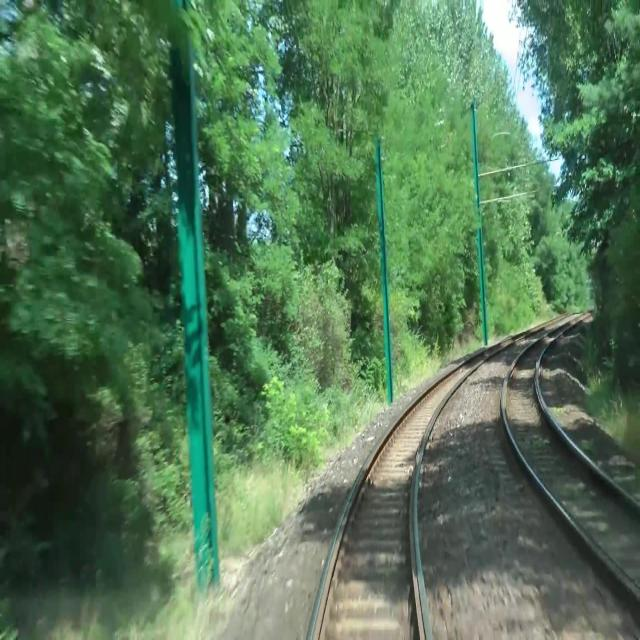rail-track: (314, 346, 497, 639), (505, 324, 640, 588)
